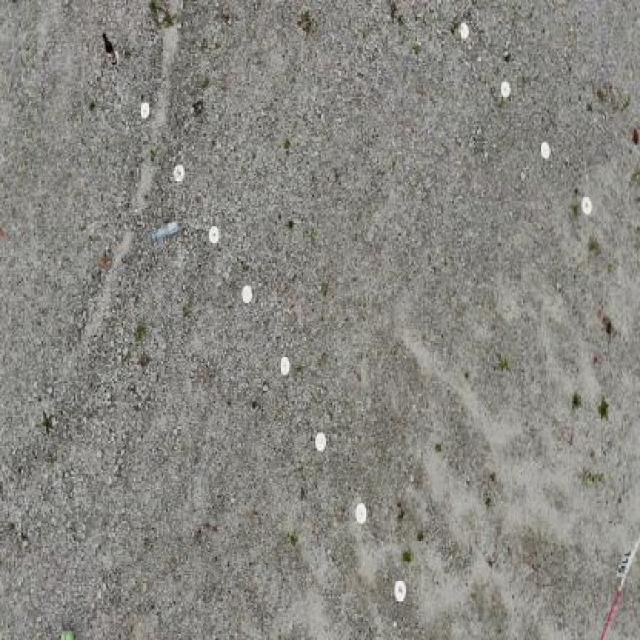Garbage: (150, 217, 182, 239), (102, 32, 117, 63), (59, 631, 74, 639)
